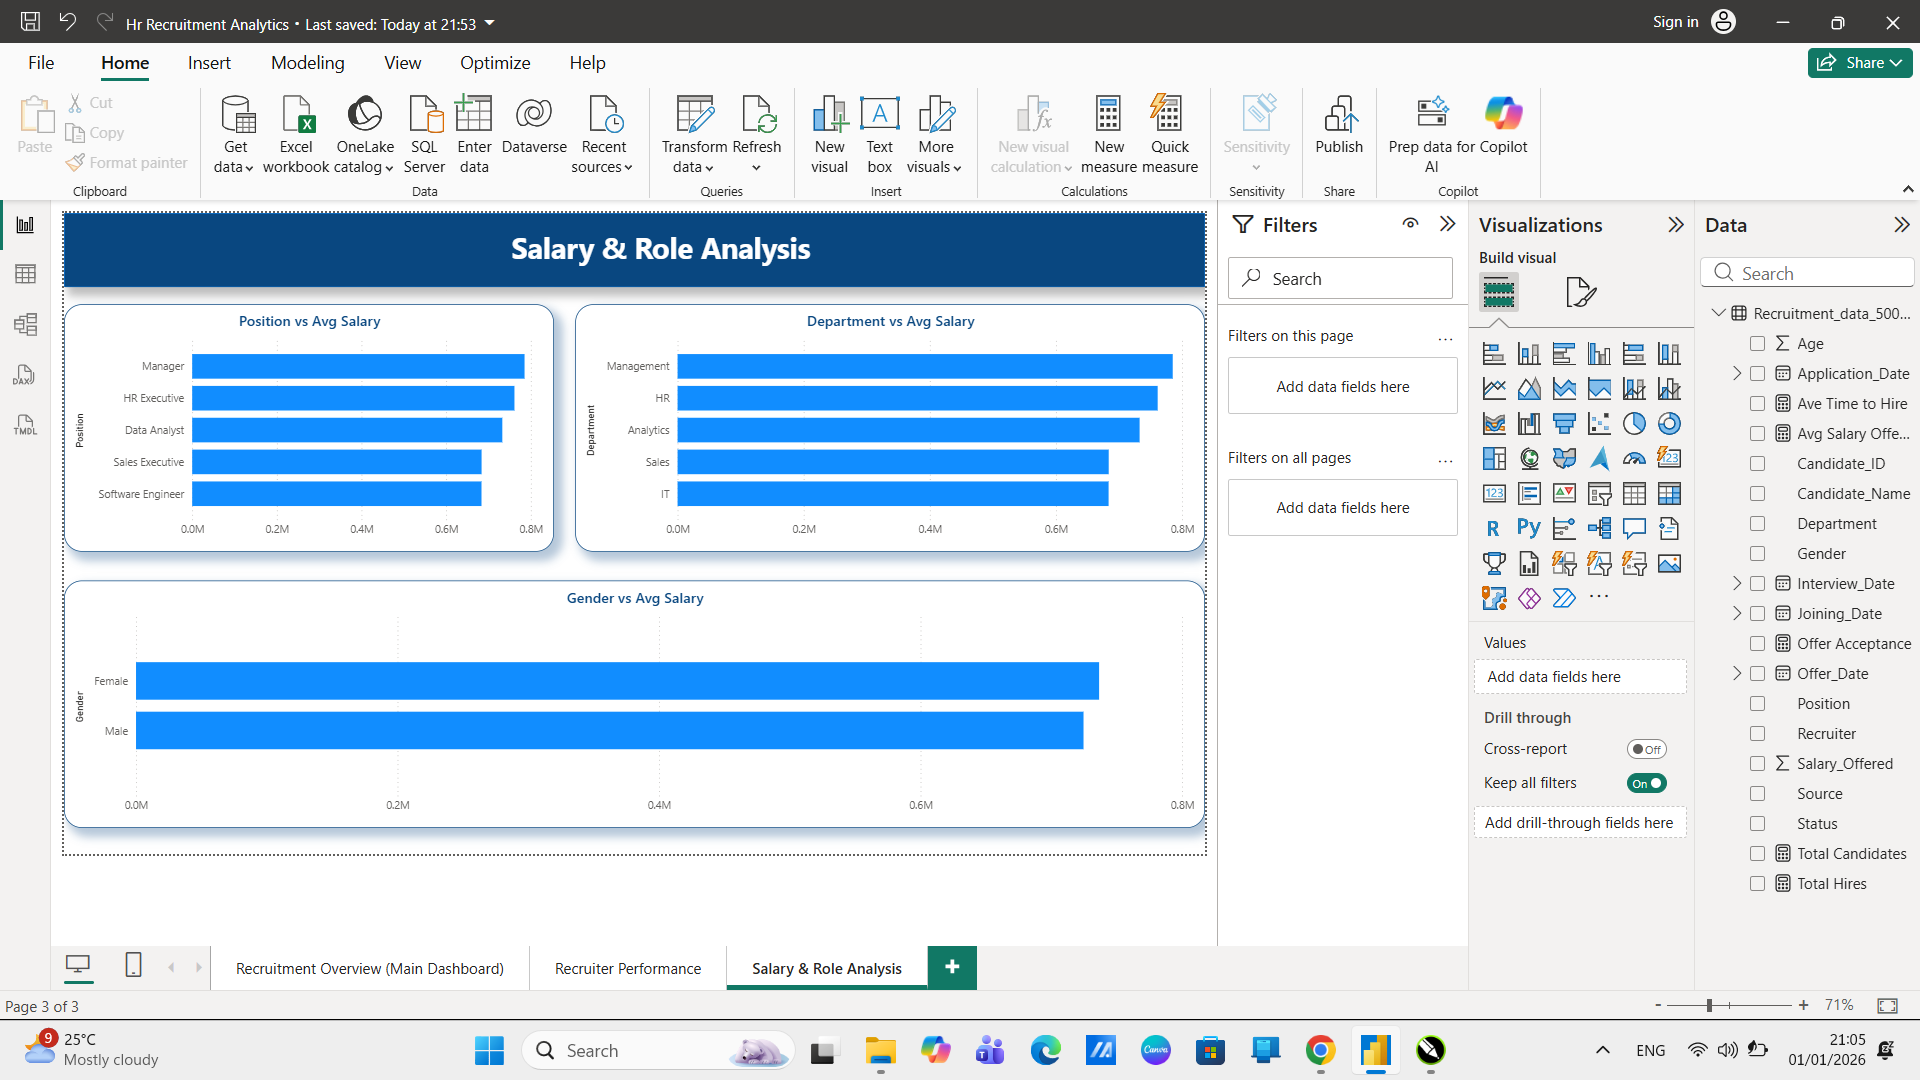

What the dashboard file says about the page in this screenshot:
{"tool":"powerbi","page":{"name":"Salary & Role Analysis","canvas":[1280,720],"ordinal":2},"visuals":[{"type":"shape","box":[0,0,1280.2,83.4],"z":0},{"type":"textbox","box":[491.1,13.1,357.6,57.2],"z":1000},{"type":"clusteredBarChart","title":"Position vs Avg Salary","fields":{"Category":["Recruitment_data_500_records.Position"],"Y":["Recruitment_data_500_records.Avg Salary(Lakhs)"]},"box":[0,102.4,549.7,277.7],"z":2000},{"type":"clusteredBarChart","title":"Department vs Avg Salary","fields":{"Category":["Recruitment_data_500_records.Department"],"Y":["Recruitment_data_500_records.Avg Salary(Lakhs)"]},"box":[573.5,102.4,706.7,277.7],"z":3000},{"type":"clusteredBarChart","title":"Gender vs Avg Salary","fields":{"Category":["Recruitment_data_500_records.Gender"],"Y":["Recruitment_data_500_records.Avg Salary(Lakhs)"]},"box":[0,412.3,1280.3,277.7],"z":4000}]}

Visuals, with their boxes on the page's 1280x720 design canvas (x1, y1, x2, y2). These are canvas units, not pixel positions in the 1920x1080 screenshot, which may show the page scaled, cropped or inside an application window:
shape: [0,0,1280,83]
textbox: [491,13,849,70]
"Position vs Avg Salary" clusteredBarChart: [0,102,550,380]
"Department vs Avg Salary" clusteredBarChart: [574,102,1280,380]
"Gender vs Avg Salary" clusteredBarChart: [0,412,1280,690]
